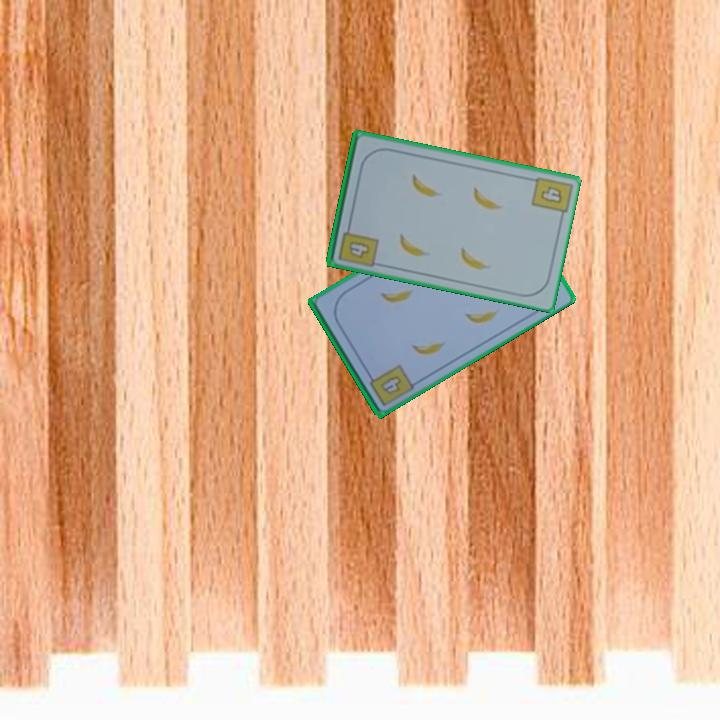4b: (335, 220, 381, 270), (377, 371, 405, 397), (537, 182, 566, 206)
